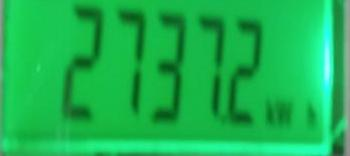.: (266, 98, 319, 128)
0: (219, 113, 228, 127)
3: (59, 6, 106, 123), (226, 19, 264, 124)
4: (148, 12, 188, 125)
8: (113, 8, 146, 113), (196, 15, 227, 117)
